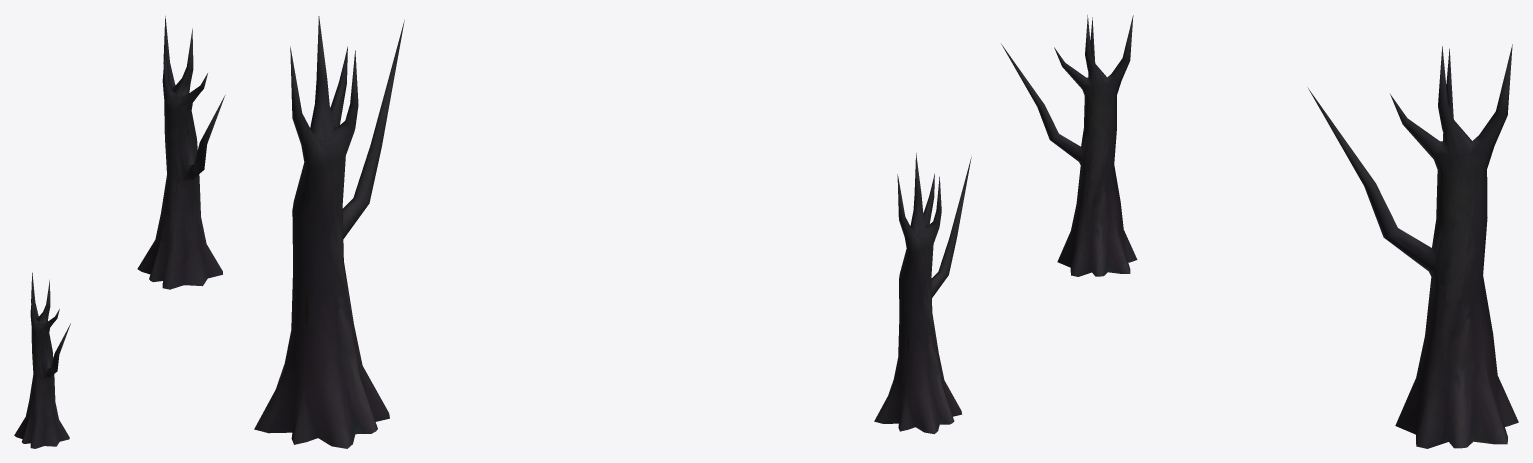
Rendered from Area10_17.fbx.
The picture shows the model from 3 angles, left to right: view 1: azimuth 30°, elevation 25°; view 2: azimuth 150°, elevation 25°; view 3: azimuth 270°, elevation 25°; orthographic projection. The views are drawn at different scales.
Visible parts, largest first — view 1: Area10_17; view 2: Area10_17; view 3: Area10_17.
Boxes of the visible parts, x1,y1,x2,y2 form: Area10_17: (14, 16, 225, 448); Area10_17: (254, 16, 971, 448); Area10_17: (1001, 15, 1518, 448).
Bounding box in the file's own units: 1590 × 1317 × 1491.
